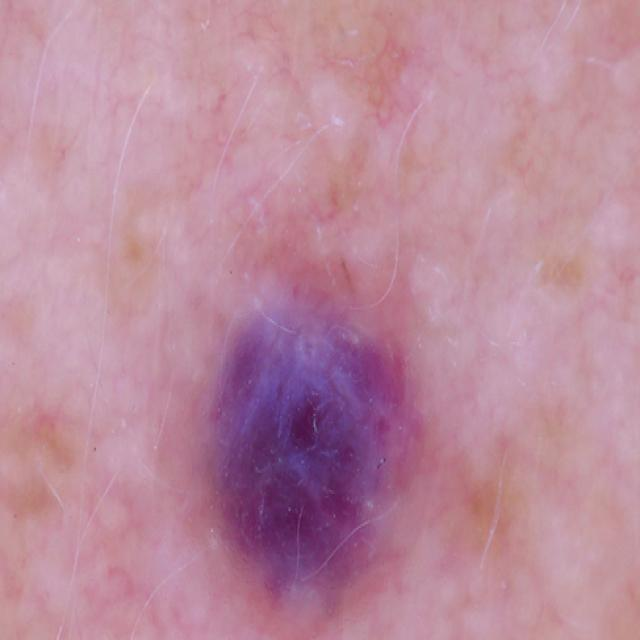Vascular Lesions: (149, 193, 486, 640)
